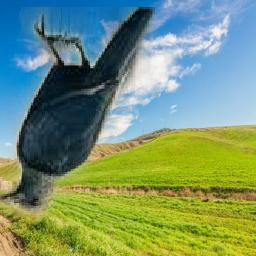Crow: (1, 7, 156, 215)
